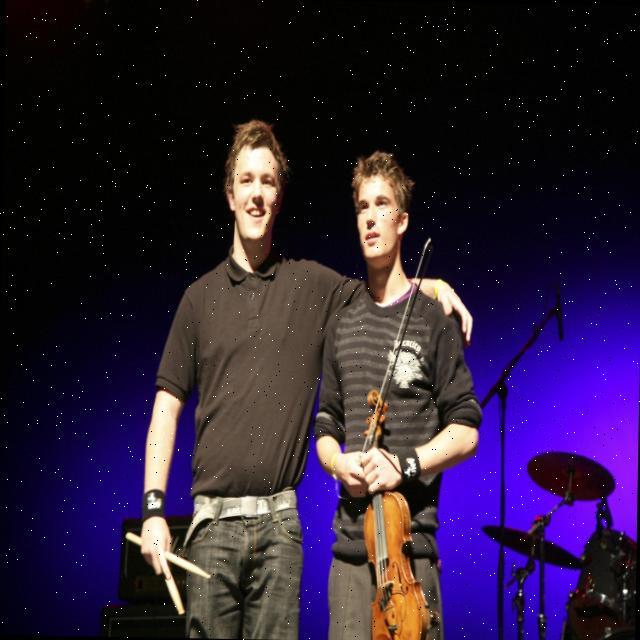drums: (473, 407, 637, 640)
violin: (357, 386, 432, 640)
